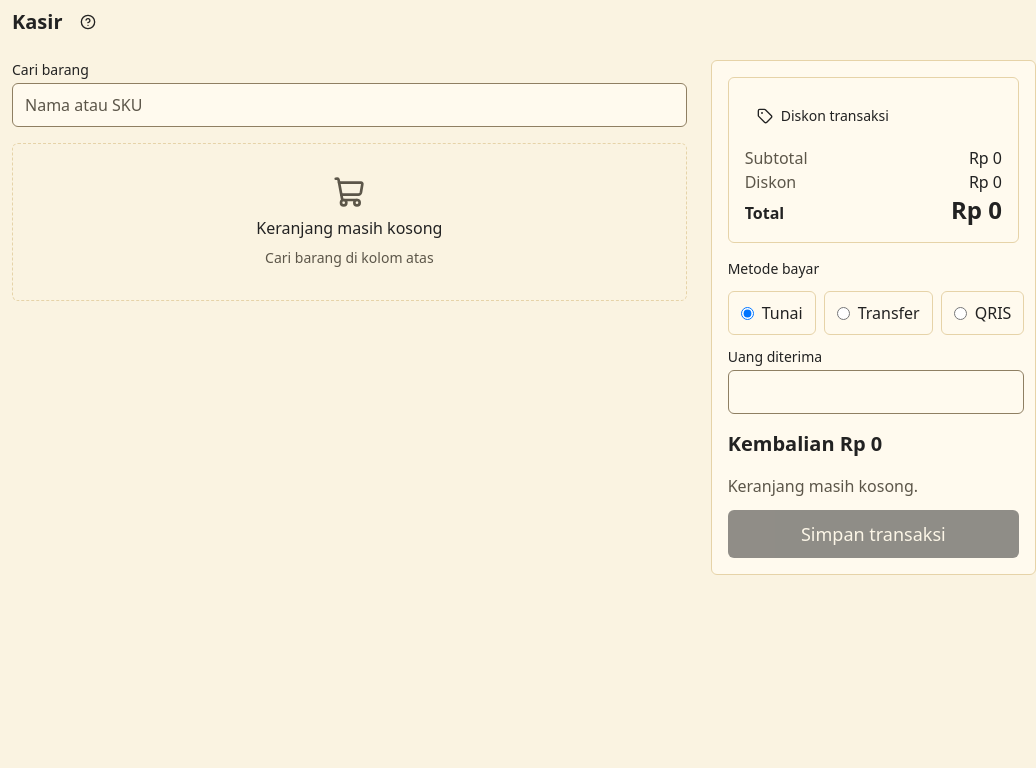
CashierPage › barang yang stoknya habis: simpan nonaktif dan alasannya tertulis
The width and height of the screenshot is (1036, 768).
Type "telur" into the search field labelled "Cari barang" at (349, 105), box [12,83,687,127]
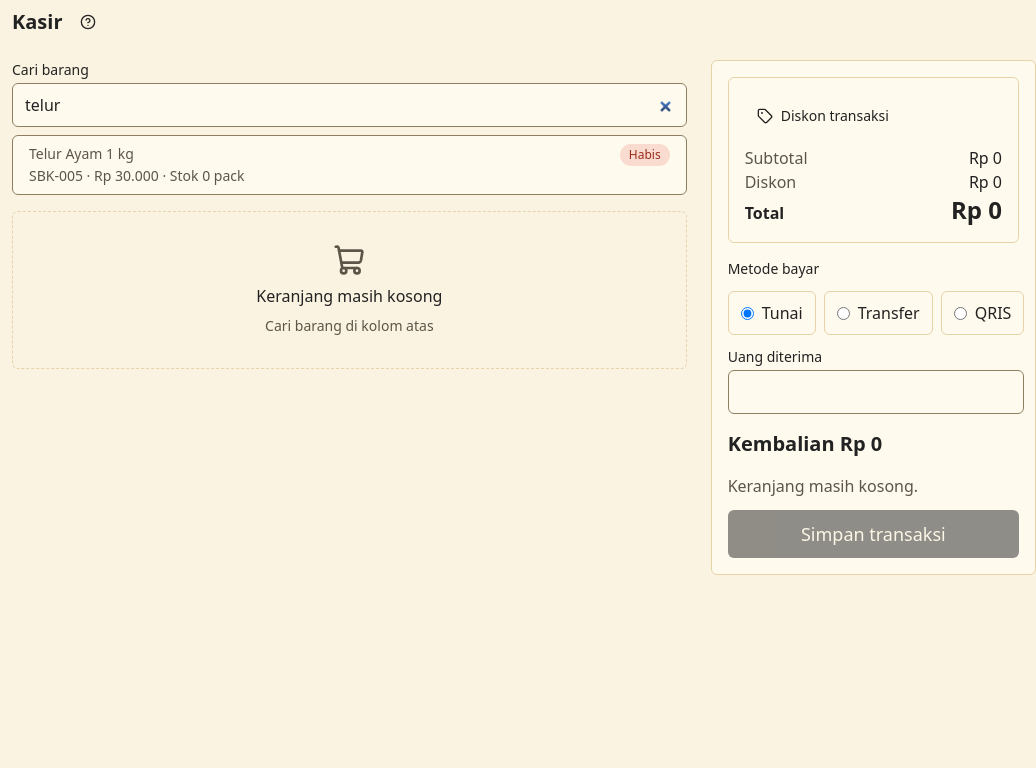
Click the button "Telur Ayam 1 kg Habis SBK-005 · Rp 30.000 · Stok 0 pack" at (81, 154), box [12,135,687,195]
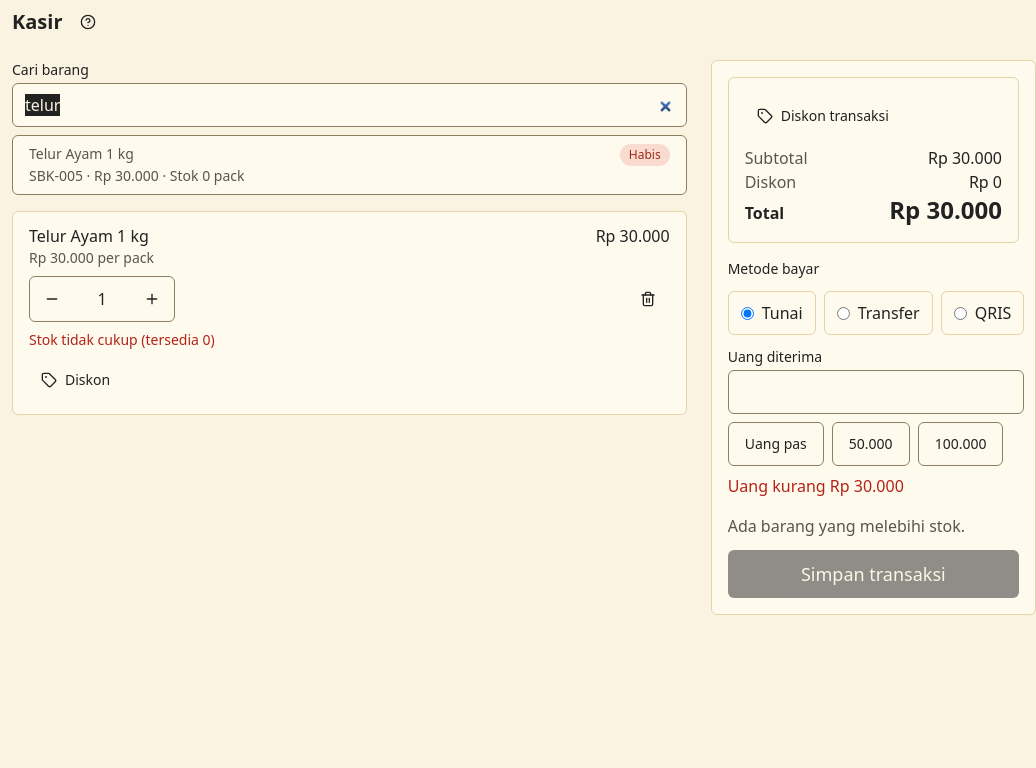
Expected: the button "Simpan transaksi" is disabled, [728,550,1019,598]
Now the text "Stok tidak cukup (tersedia 0)" is shown, box [29,330,215,349]
Now the text "Ada barang yang melebihi stok." is shown, box [728,515,965,537]
